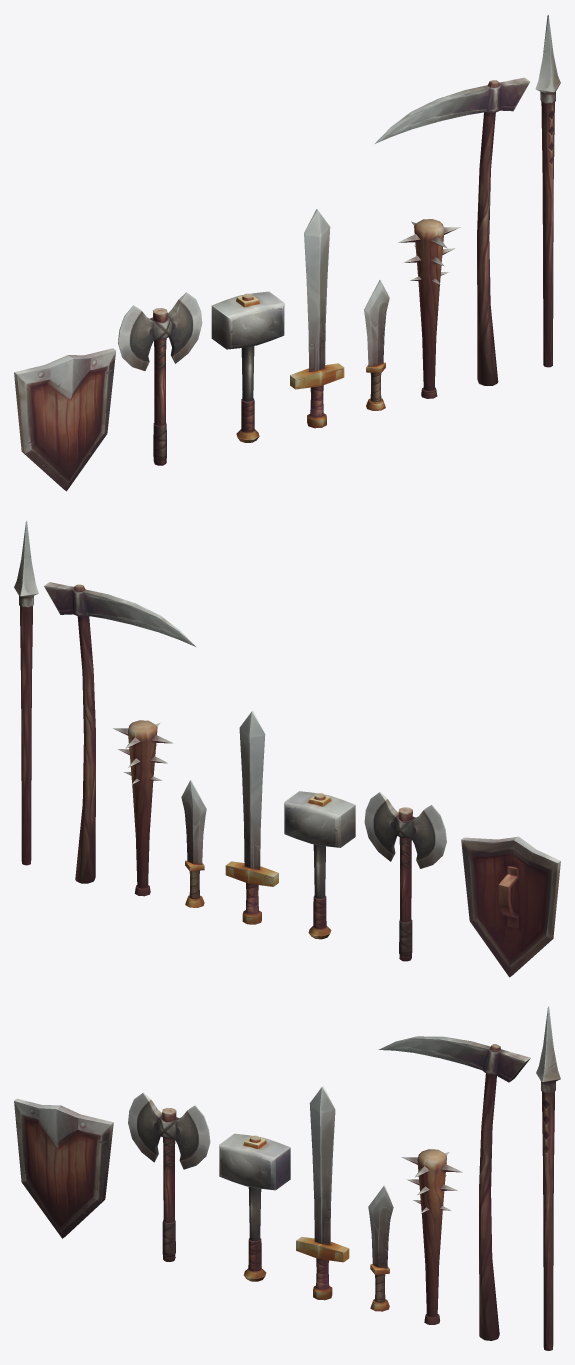
The model's file is weapon.glb.
3 renders of one model, top to bottom at view 1: azimuth 30°, elevation 25°; view 2: azimuth 150°, elevation 25°; view 3: azimuth 330°, elevation 25°, orthographic. The views are drawn at different scales.
Parts seen in each view (by area): view 1: Shield, Scythe, Axe, Hammer, Sword, Spear, Club, Dagger; view 2: Shield, Scythe, Axe, Hammer, Sword, Spear, Club, Dagger; view 3: Shield, Scythe, Axe, Hammer, Sword, Spear, Club, Dagger.
Boxes of the visible parts, box(x1,y1,x2,y2) form: Shield: box(14, 348, 115, 491); Scythe: box(375, 77, 530, 385); Axe: box(118, 292, 202, 465); Hammer: box(211, 291, 284, 442); Sword: box(290, 209, 344, 428); Spear: box(535, 15, 560, 367); Club: box(398, 219, 460, 398); Dagger: box(364, 280, 389, 410); Shield: box(461, 836, 560, 977); Scythe: box(44, 582, 195, 883); Axe: box(364, 792, 446, 961); Hammer: box(284, 791, 355, 939); Sword: box(225, 711, 278, 924); Spear: box(14, 520, 38, 865); Club: box(113, 720, 173, 896); Dagger: box(181, 780, 206, 907); Shield: box(14, 1098, 113, 1238); Scythe: box(378, 1036, 530, 1340); Axe: box(128, 1092, 210, 1261); Hammer: box(219, 1133, 290, 1281); Sword: box(296, 1086, 349, 1300); Spear: box(536, 1006, 560, 1350); Club: box(401, 1149, 462, 1324); Dagger: box(368, 1185, 393, 1311).
Size of the model in its own units: 2.38 by 1.46 by 0.2736.
Materials: 1 (1 with a texture image).
